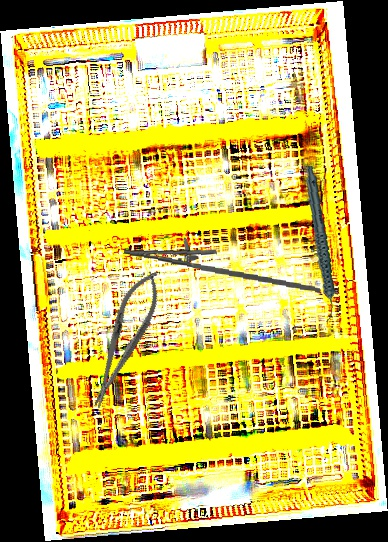Handpiece: (293, 165, 347, 323)
Needle Holder: (79, 264, 170, 414), (121, 233, 324, 294)
